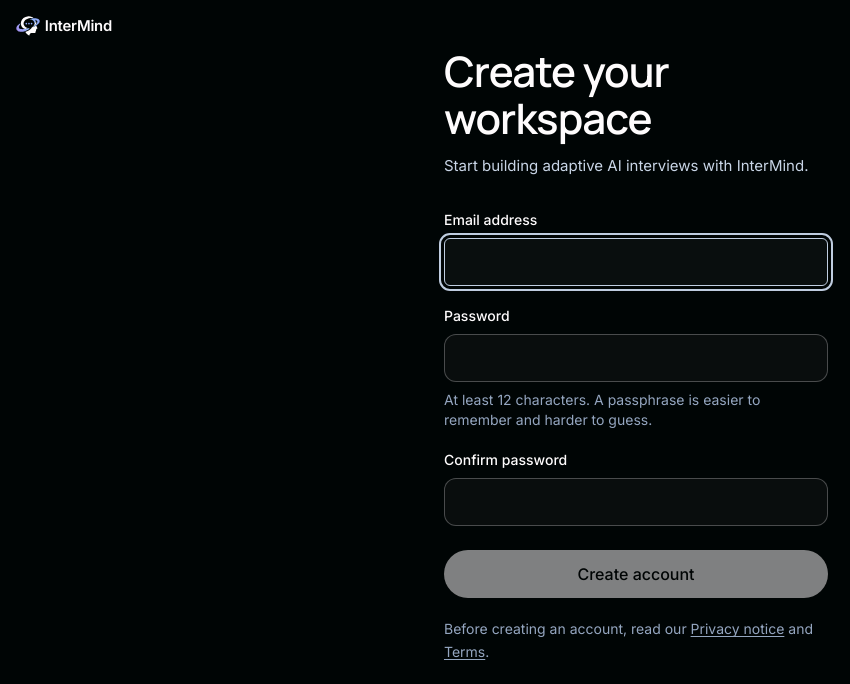
Scenario: RecruiterSignupPage › shows a backend validation error accessibly
Type "new@example.com" into the field labelled "Email address".
click(636, 262); type("new@example.com")  # box [444, 238, 828, 286]
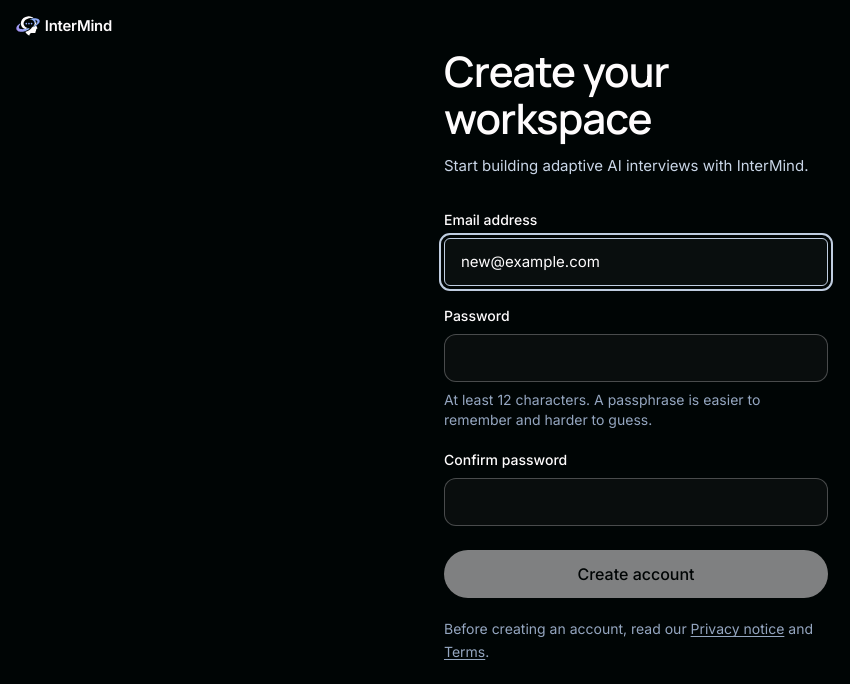
Type "a-long-enough-passphrase" into the password field labelled "Password".
click(636, 358); type("a-long-enough-passphrase")  # box [444, 334, 828, 382]
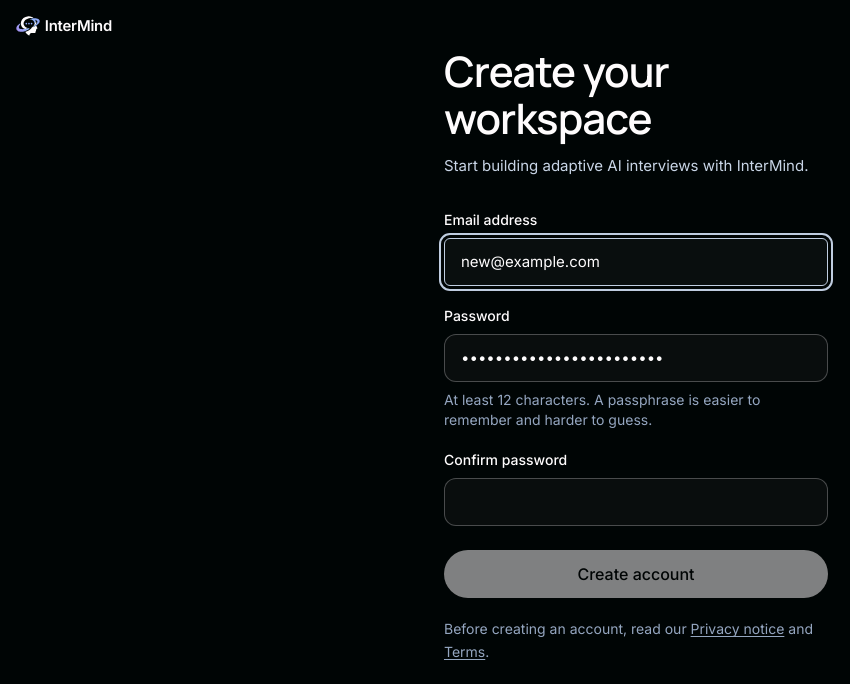
Type "a-long-enough-passphrase" into the password field labelled "Confirm password".
click(636, 502); type("a-long-enough-passphrase")  # box [444, 478, 828, 526]
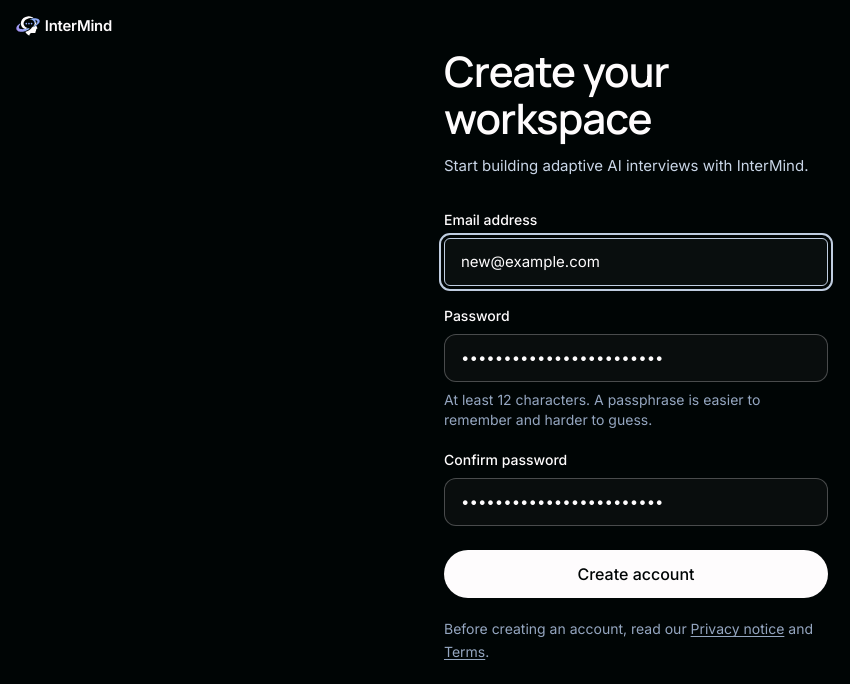
Click the button "Create account".
click(636, 574)  # box [444, 550, 828, 598]
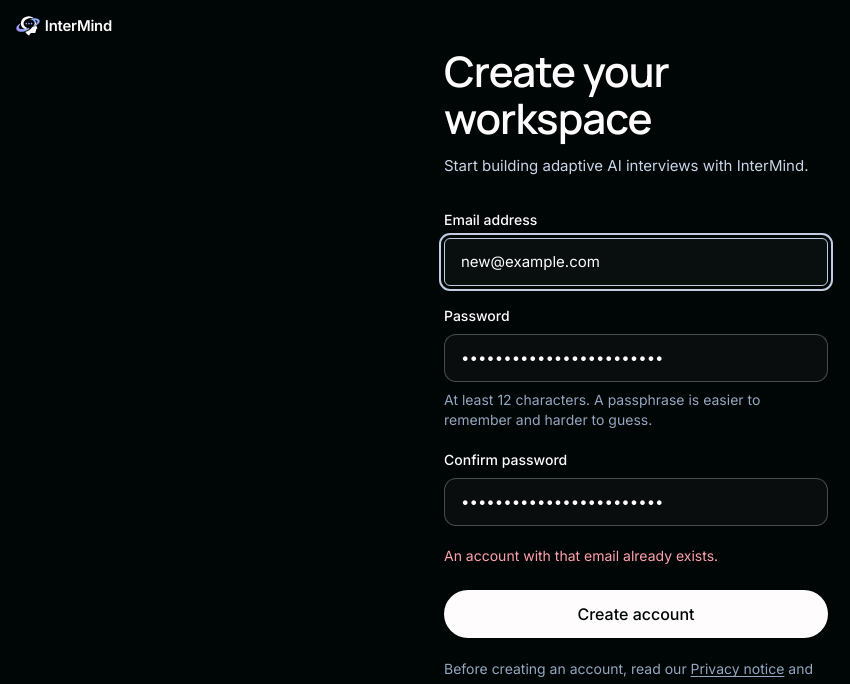
Result: the message reads "An account with that email already exists." at [444, 547, 718, 564]
